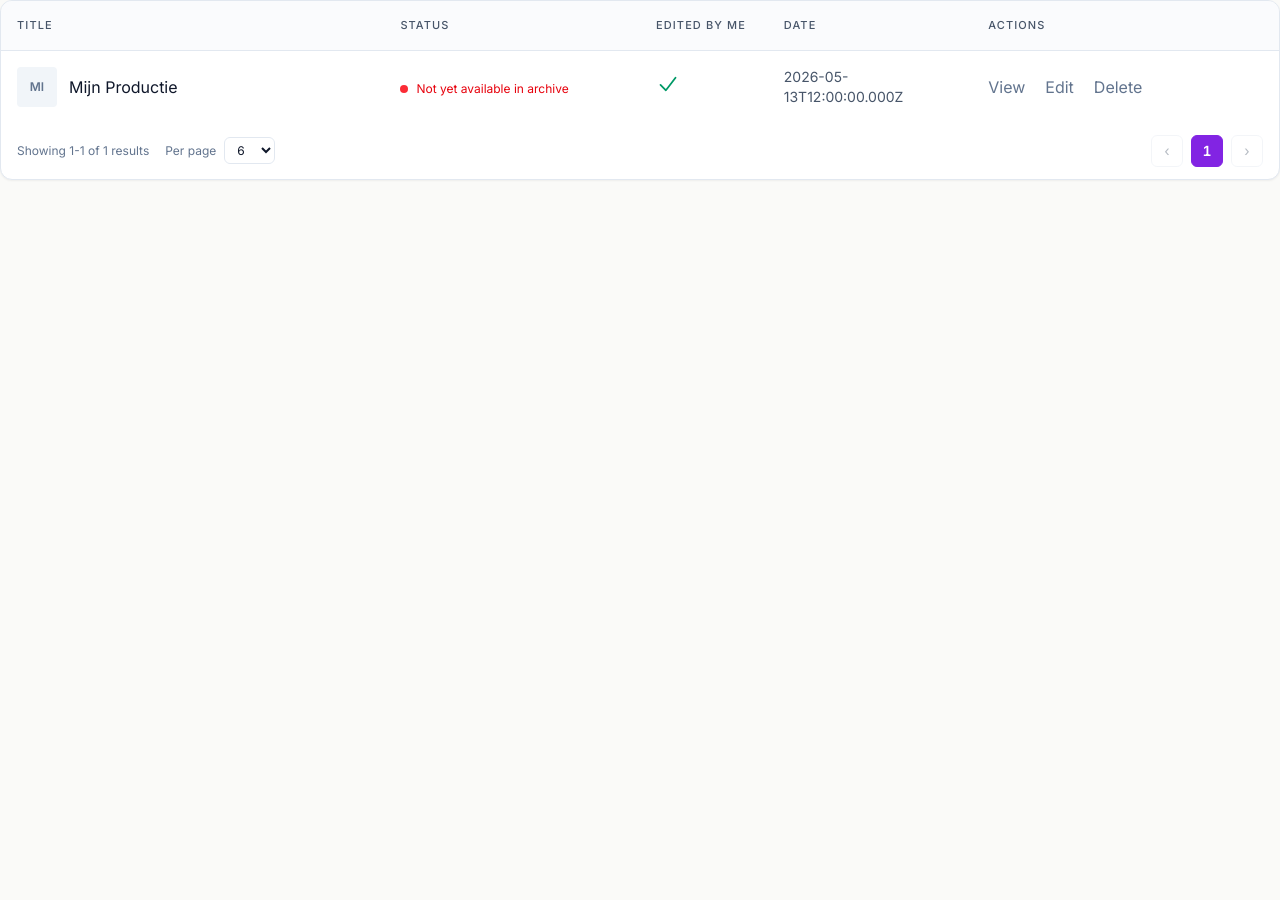
Test: DraftsTable › closes delete modal on cancel
Click the button "Delete" at (1118, 86), box [1086,66,1150,106]
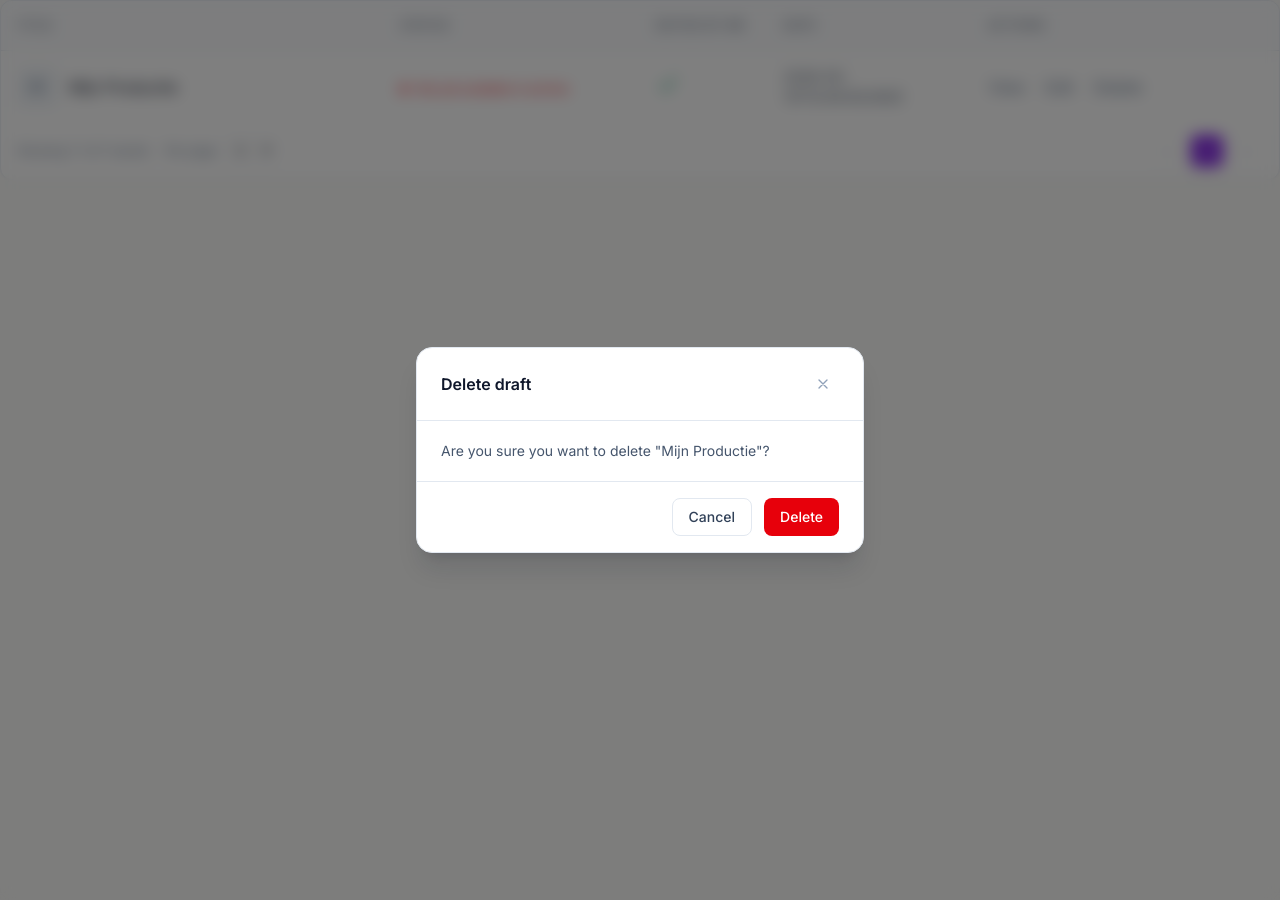
Expected: the heading "Delete draft" is shown, [441,372,531,396]
Click the button "Cancel" at (712, 517), box [672,498,752,536]
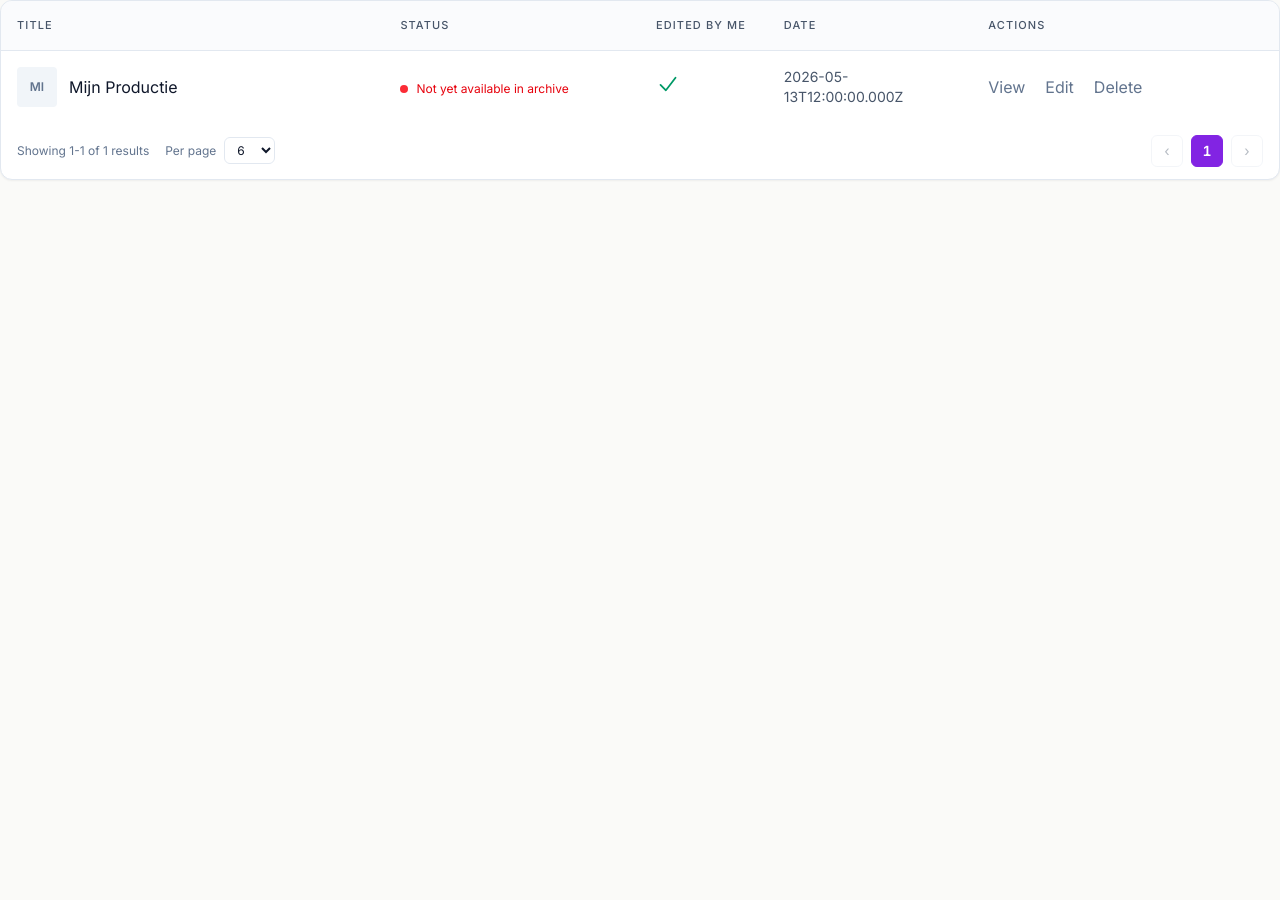
Expected: the heading "Delete draft" is gone
